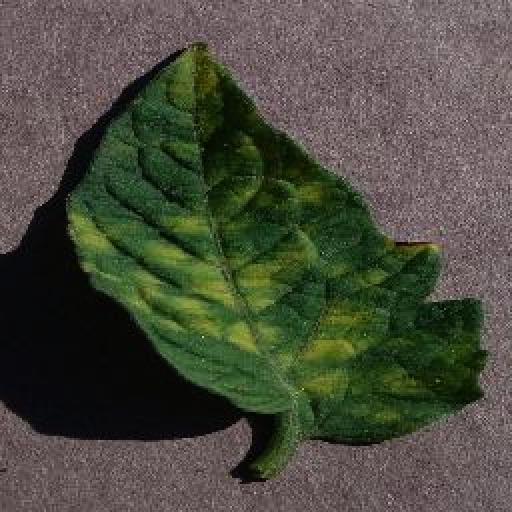disease_tomato: (66, 40, 488, 450)
